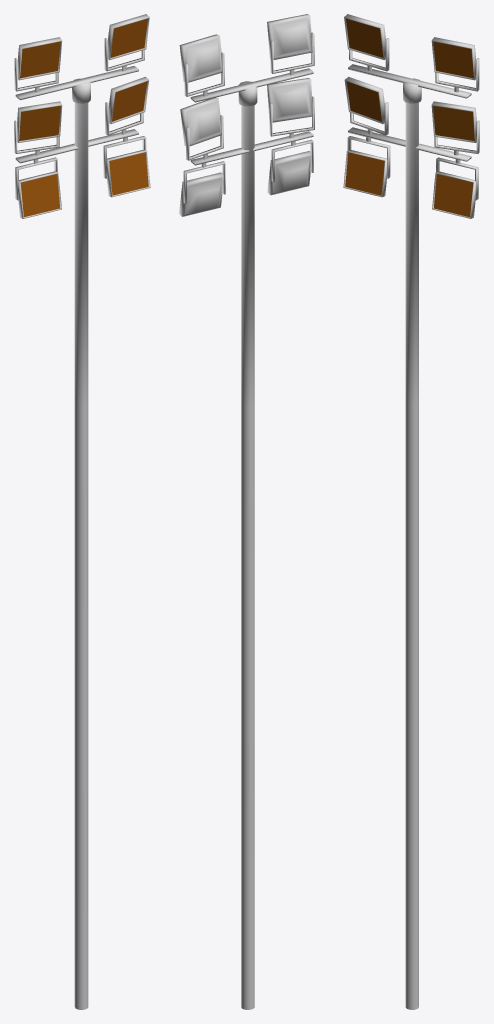
File: SM_headlights.FBX
The picture shows the model from 3 angles, left to right: view 1: azimuth 30°, elevation 25°; view 2: azimuth 210°, elevation 25°; view 3: azimuth 330°, elevation 25°; orthographic projection.
Parts seen in each view (by area): view 1: Object002; view 2: Object002; view 3: Object002.
Part boxes in pixels (x1,y1,x2,y2): Object002: (14, 14, 150, 1009); Object002: (179, 14, 314, 1009); Object002: (343, 14, 479, 1009).
Size of the model in its own units: 715 by 5179 by 125.
